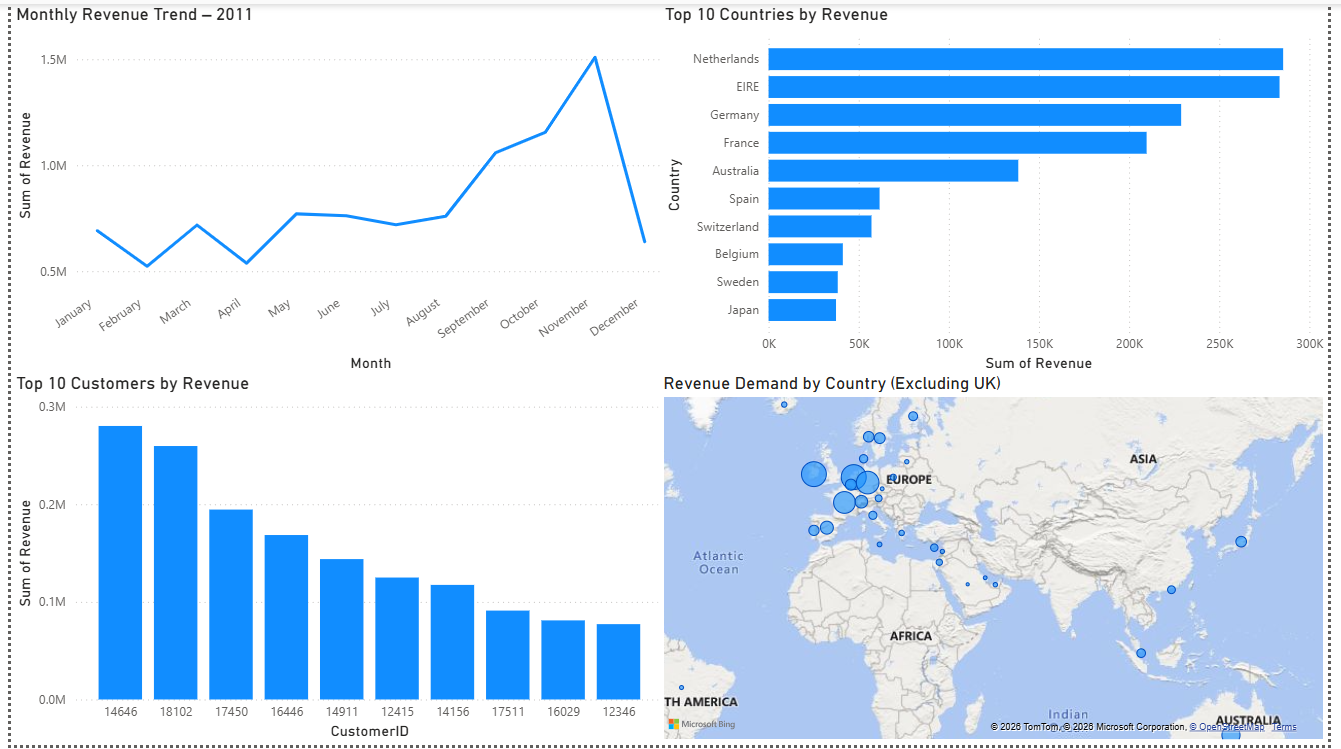

What the dashboard file says about the page in this screenshot:
{"tool":"powerbi","page":{"name":"Page 1","canvas":[1280,720],"ordinal":0},"visuals":[{"type":"lineChart","title":"Monthly Revenue Trend – 2011","fields":{"Category":["Sheet1.InvoiceDate.Variation.Date Hierarchy.Month"],"Y":["Sum(Sheet1.Revenue)"]},"box":[0,0,640,361.7],"z":0},{"type":"clusteredBarChart","title":"Top 10 Countries by Revenue","fields":{"Category":["Sheet1.Country"],"Y":["Sum(Sheet1.Revenue)"]},"box":[630,0,650,361.7],"z":1000},{"type":"clusteredColumnChart","title":"Top 10 Customers by Revenue","fields":{"Category":["Sheet1.CustomerID"],"Y":["Sum(Sheet1.Revenue)"]},"box":[0,358.1,638.6,361.1],"z":2000},{"type":"map","title":"Revenue Demand by Country (Excluding UK)","fields":{"Category":["Sheet1.Country"],"Size":["Sum(Sheet1.Revenue)"]},"box":[629.7,358.1,650.6,361.1],"z":3000}]}

Visuals, with their boxes in screenshot pixels (x1, y1, x2, y2), scaled from the page's 1280x720 canvas onto the 1341x749 screenshot:
"Monthly Revenue Trend – 2011" lineChart: (left=0, top=0, right=670, bottom=376)
"Top 10 Countries by Revenue" clusteredBarChart: (left=660, top=0, right=1340, bottom=376)
"Top 10 Customers by Revenue" clusteredColumnChart: (left=0, top=373, right=669, bottom=748)
"Revenue Demand by Country (Excluding UK)" map: (left=660, top=373, right=1340, bottom=748)
